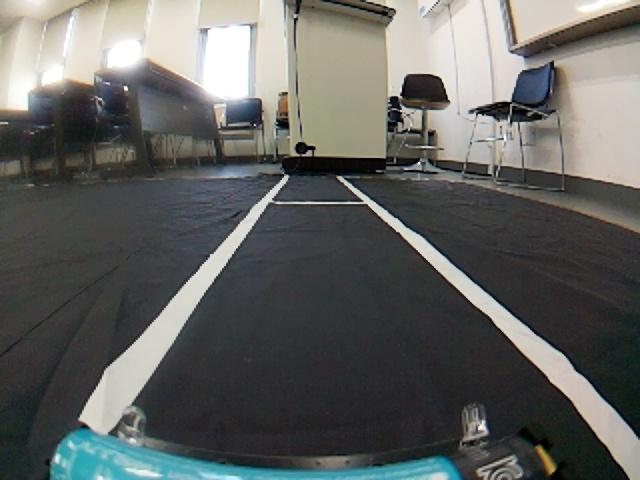straight: (84, 206, 640, 479)
